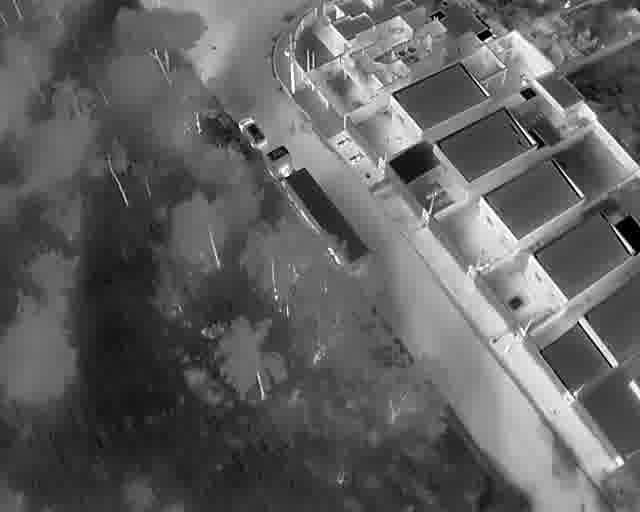car: (238, 116, 266, 149), (504, 294, 530, 313)
truck: (264, 144, 371, 267)
